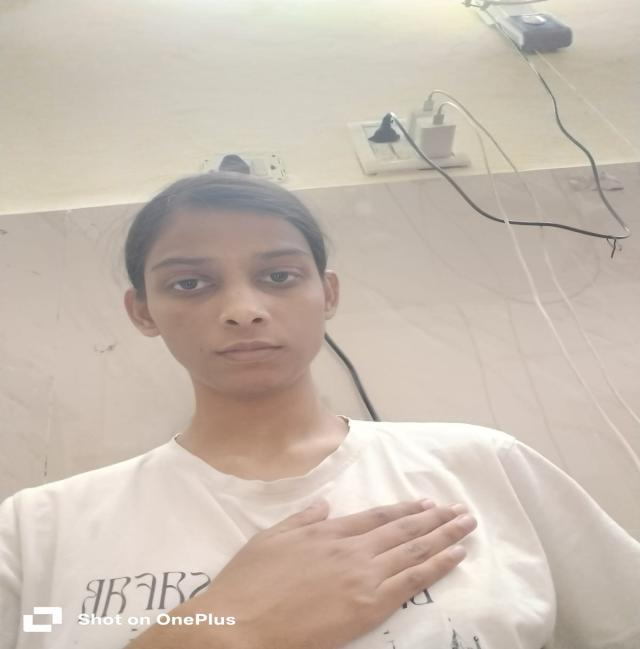Please: (176, 488, 487, 648)
